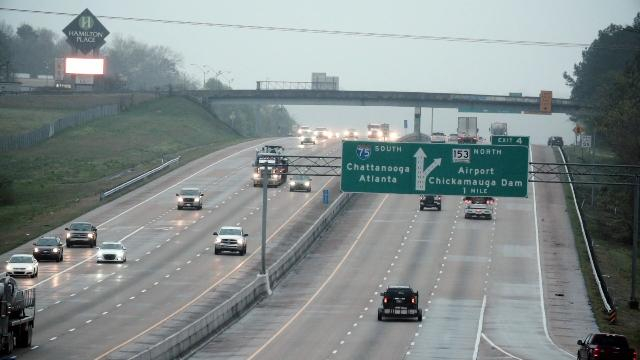car: (379, 286, 424, 321), (213, 224, 248, 256), (7, 254, 39, 278), (177, 184, 205, 210), (36, 238, 64, 262), (98, 242, 127, 264), (291, 173, 312, 193), (429, 132, 446, 144), (300, 133, 316, 145), (548, 136, 565, 147), (345, 128, 359, 139), (448, 133, 459, 142)
pickup-truck: (568, 331, 639, 359), (66, 221, 99, 247), (465, 197, 496, 217), (420, 195, 442, 211)
truck: (250, 146, 285, 189), (453, 113, 485, 148), (489, 122, 508, 143), (367, 123, 383, 139)
